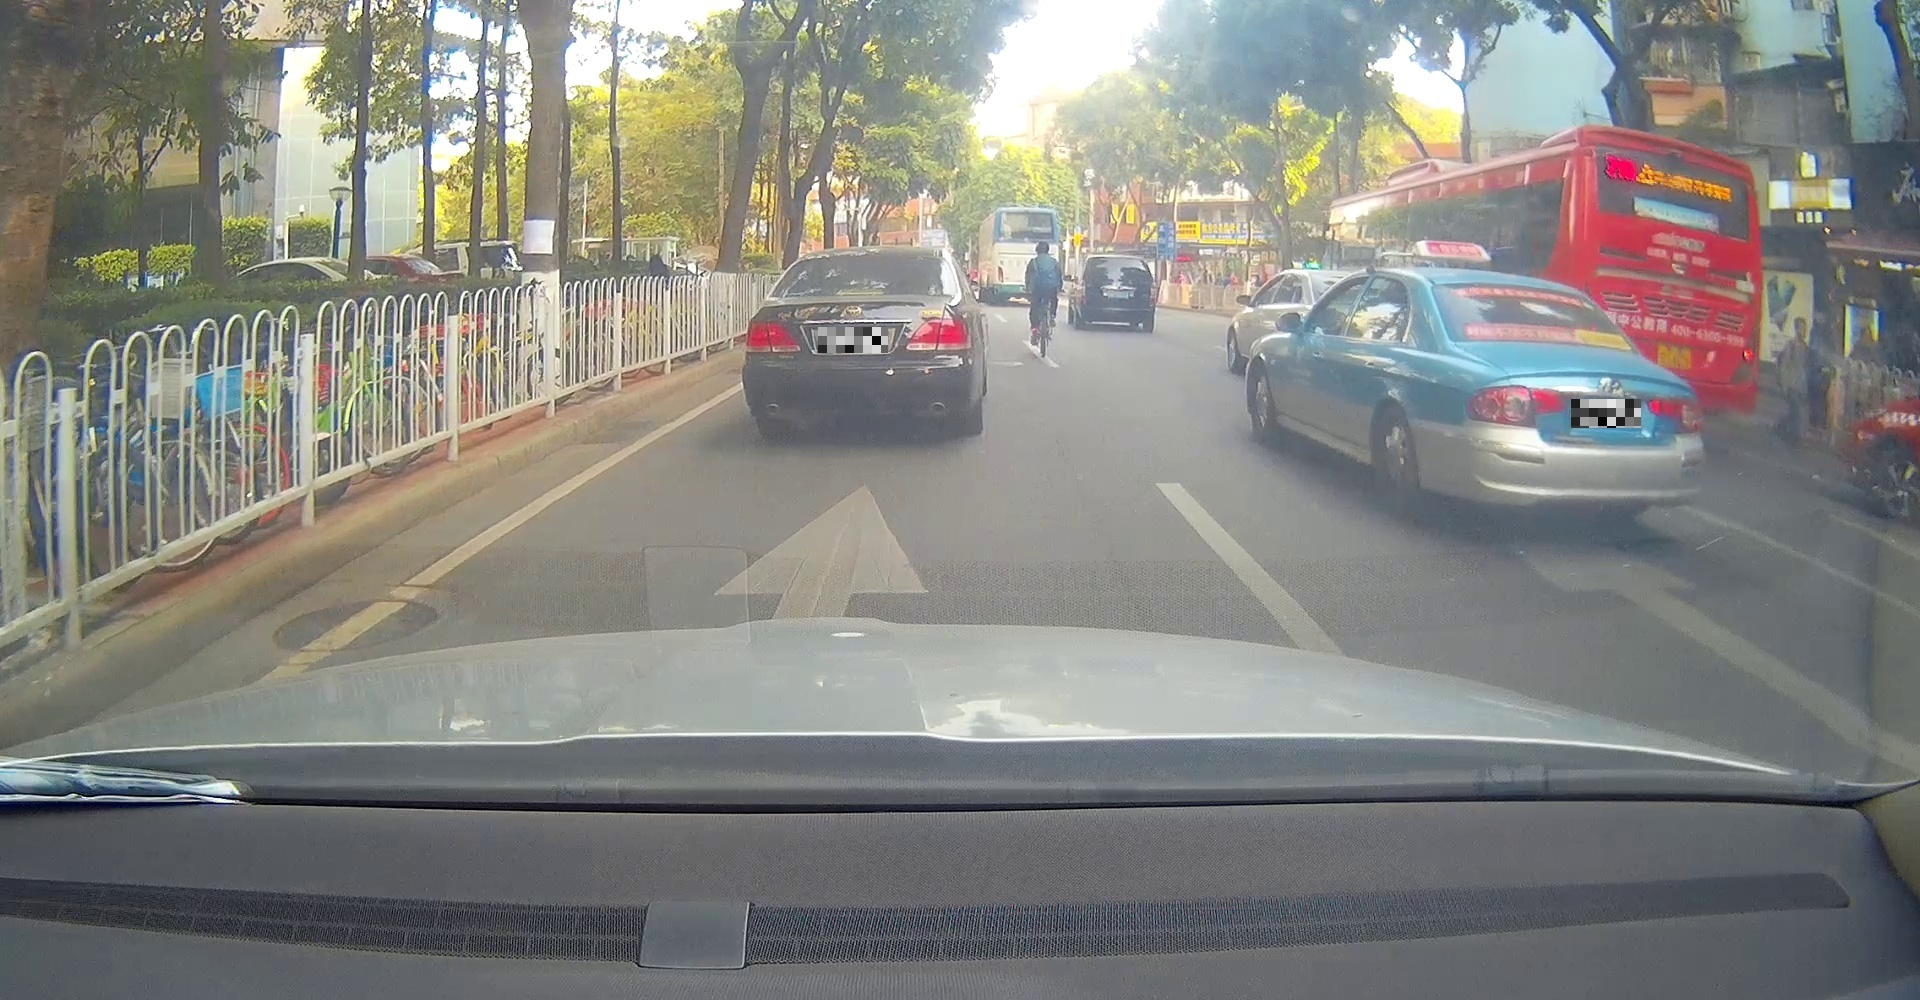L_light: (1462, 383, 1566, 429), (744, 319, 801, 353), (1079, 280, 1084, 302)
R_light: (1644, 393, 1704, 435), (905, 316, 974, 352), (1150, 282, 1156, 305), (1112, 259, 1125, 261)
T_light: (838, 287, 885, 296), (1514, 287, 1545, 296)
day-no: (1421, 265, 1709, 519), (739, 246, 982, 435), (1078, 254, 1158, 330)
plate_1: (818, 327, 888, 353)
plate_2: (1571, 398, 1641, 428)
